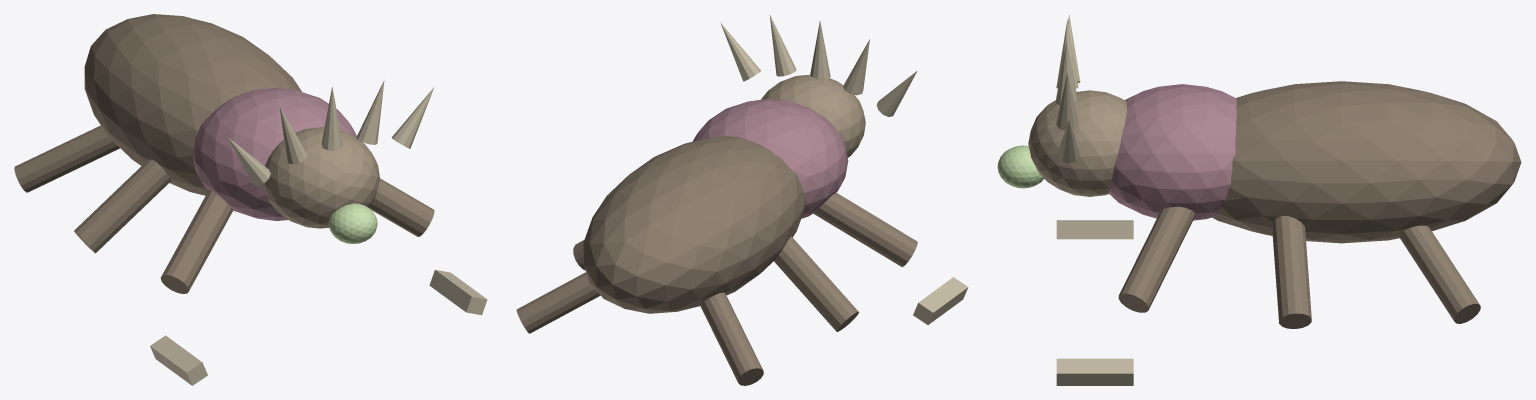
Rendered from zglengo_queen.glb.
3 renders of one model, left to right at view 1: azimuth 30°, elevation 25°; view 2: azimuth 150°, elevation 25°; view 3: azimuth 270°, elevation 25°, orthographic. The views are drawn at different scales.
Parts seen in each view (by area): view 1: elongated_abdomen, thorax, royal_head, royal_midlimb_-1, royal_forelimb_-1, royal_rearlimb_-1, royal_forelimb_1, bio_cast_orb, cast_pincer_-1, cast_pincer_1, crown_spine_1, crown_spine_0 (+3 smaller); view 2: elongated_abdomen, thorax, royal_head, royal_forelimb_-1, royal_midlimb_-1, royal_rearlimb_-1, royal_rearlimb_1, cast_pincer_-1, crown_spine_1, crown_spine_0, crown_spine_3, crown_spine_2 (+1 smaller); view 3: elongated_abdomen, thorax, royal_head, royal_forelimb_1, royal_midlimb_1, royal_rearlimb_1, cast_pincer_1, cast_pincer_-1, bio_cast_orb, crown_spine_1, crown_spine_0, crown_spine_2.
Part boxes in pixels (x1,y1,x2,y2): elongated_abdomen: [84, 14, 301, 195]; thorax: [192, 88, 356, 220]; royal_head: [263, 127, 379, 228]; royal_midlimb_-1: [74, 159, 171, 253]; royal_forelimb_-1: [160, 189, 233, 293]; royal_rearlimb_-1: [14, 125, 119, 192]; royal_forelimb_1: [368, 178, 434, 236]; bio_cast_orb: [328, 203, 377, 243]; cast_pincer_-1: [150, 335, 207, 385]; cast_pincer_1: [429, 269, 487, 315]; crown_spine_1: [356, 80, 384, 144]; crown_spine_0: [391, 87, 434, 148]; elongated_abdomen: [583, 136, 805, 313]; thorax: [693, 99, 848, 218]; royal_head: [761, 75, 865, 157]; royal_forelimb_-1: [813, 192, 917, 267]; royal_midlimb_-1: [774, 236, 858, 331]; royal_rearlimb_-1: [700, 292, 763, 385]; royal_rearlimb_1: [516, 272, 600, 333]; cast_pincer_-1: [913, 277, 968, 324]; crown_spine_1: [769, 14, 796, 76]; crown_spine_0: [720, 22, 760, 81]; crown_spine_3: [843, 39, 869, 95]; crown_spine_2: [810, 20, 830, 79]; elongated_abdomen: [1212, 81, 1521, 243]; thorax: [1109, 84, 1236, 220]; royal_head: [1028, 90, 1126, 196]; royal_forelimb_1: [1118, 206, 1195, 312]; royal_midlimb_1: [1272, 216, 1311, 328]; royal_rearlimb_1: [1398, 225, 1480, 323]; cast_pincer_1: [1056, 358, 1133, 385]; cast_pincer_-1: [1056, 220, 1133, 239]; bio_cast_orb: [997, 145, 1043, 188]; crown_spine_1: [1056, 73, 1078, 130]; crown_spine_0: [1058, 120, 1080, 163]; crown_spine_2: [1056, 39, 1077, 105].
Bounding box in the file's own units: 1.41 × 1.17 × 2.04.
